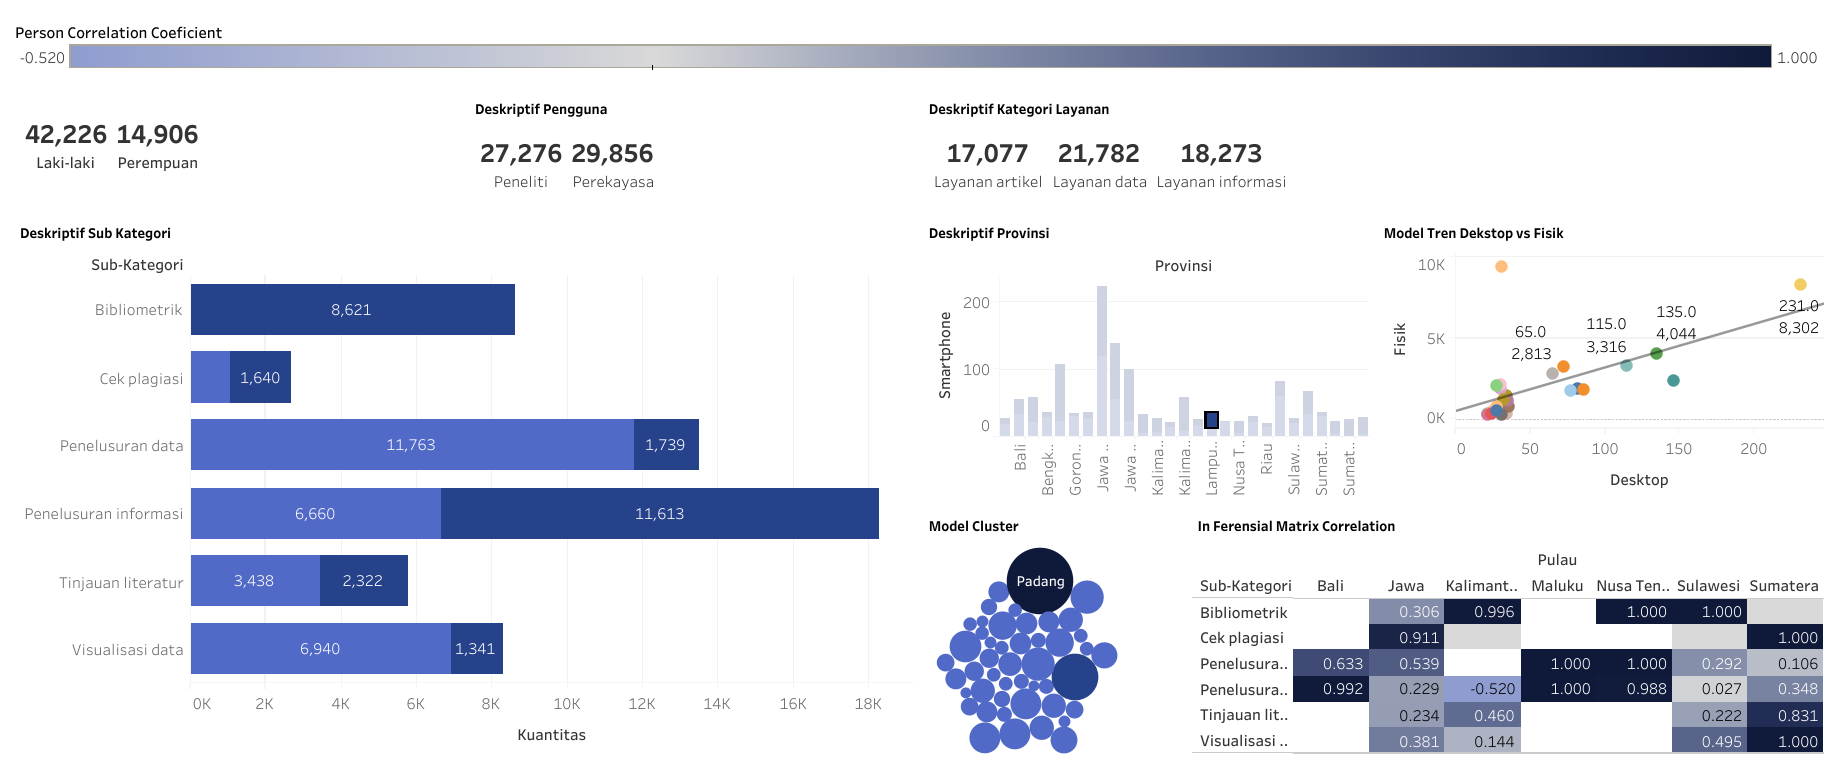

What the dashboard file says about the page in this screenshot:
{"tool":"tableau","page":{"name":"Dashboard 3","canvas":[1000,1000],"units":"permille","ordinal":2},"visuals":[{"type":"legend","title":"In Ferensial Matrix Correlation","param":"[federated.1eyp32y0x5mi6k1egf6j20a8o0zg].[usr:Calculation_1268326257570844674:qk","box":[4.8,10,990.3,100.2]},{"type":"worksheet","title":"Deskriptif Jenis Kelamin","mark":"Automatic","box":[4.8,110.2,247.6,161.2]},{"type":"worksheet","title":"Deskriptif Pengguna","mark":"Automatic","box":[252.4,110.2,247.6,161.2]},{"type":"worksheet","title":"Deskriptif Kategori Layanan","mark":"Automatic","box":[500,110.2,495.2,161.2]},{"type":"worksheet","title":"Deskriptif Sub Kategori","mark":"Automatic","rows":["Sub-Kategori"],"cols":["Kuantitas"],"box":[4.8,271.4,495.2,718.6]},{"type":"worksheet","title":"Deskriptif Provinsi","mark":"Automatic","rows":["Smartphone"],"cols":["Provinsi"],"box":[500,271.4,247.6,385.3]},{"type":"worksheet","title":"Model Tren Dekstop vs Fisik","mark":"Circle","rows":["Fisik"],"cols":["Desktop"],"box":[747.6,271.4,247.6,385.3]},{"type":"worksheet","title":"Model Cluster","mark":"Circle","box":[500,656.7,146.2,333.3]},{"type":"worksheet","title":"In Ferensial Matrix Correlation","mark":"Square","rows":["Sub-Kategori"],"cols":["Pulau"],"box":[646.1,656.7,349,333.3]}]}

Visuals, with their boxes on the dashboard's canvas, which has no fixed pixel size, in thousandths of its width and height (x1, y1, x2, y2). These are canvas units, not pixel positions in the 1838x768 screenshot, which may show the page scaled, cropped or inside an application window:
"In Ferensial Matrix Correlation" legend: box(5, 10, 995, 110)
"Deskriptif Jenis Kelamin" worksheet: box(5, 110, 252, 271)
"Deskriptif Pengguna" worksheet: box(252, 110, 500, 271)
"Deskriptif Kategori Layanan" worksheet: box(500, 110, 995, 271)
"Deskriptif Sub Kategori" worksheet: box(5, 271, 500, 990)
"Deskriptif Provinsi" worksheet: box(500, 271, 748, 657)
"Model Tren Dekstop vs Fisik" worksheet (Circle marks): box(748, 271, 995, 657)
"Model Cluster" worksheet (Circle marks): box(500, 657, 646, 990)
"In Ferensial Matrix Correlation" worksheet (Square marks): box(646, 657, 995, 990)
